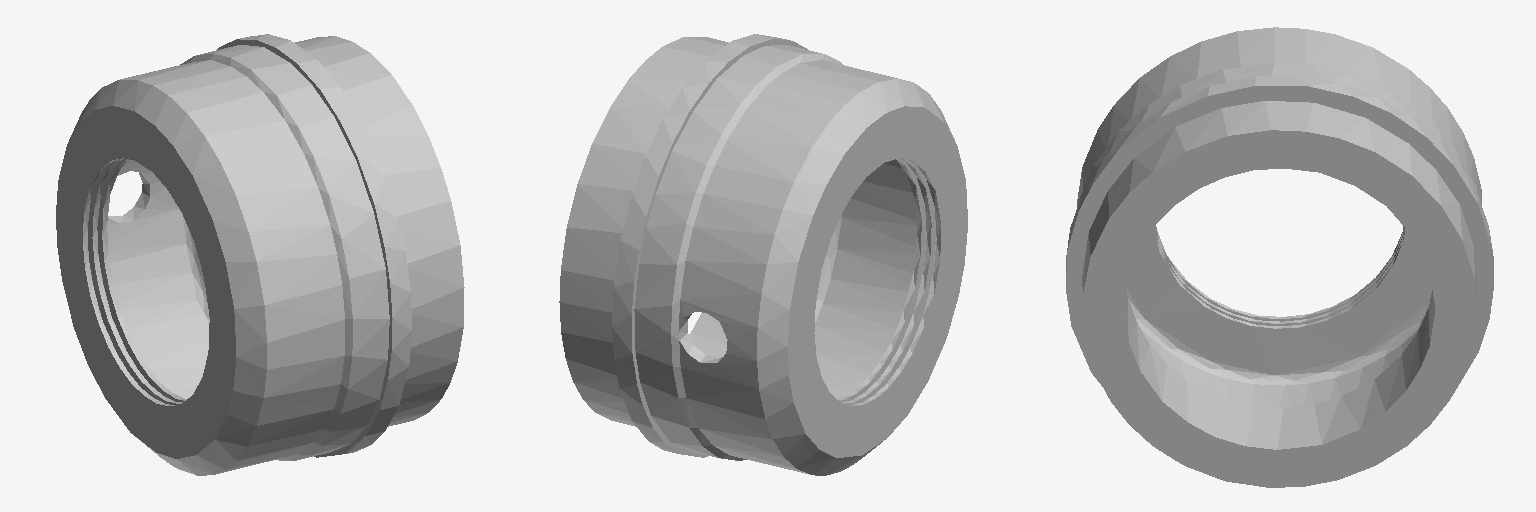
The model's file is push bushing.obj.
The picture shows the model from 3 angles: view 1: azimuth 30°, elevation 25°; view 2: azimuth 150°, elevation 25°; view 3: azimuth 270°, elevation 25°; orthographic projection.
Visible parts, largest first — view 1: imagetostl_mesh0; view 2: imagetostl_mesh0; view 3: imagetostl_mesh0.
Part boxes in pixels (left/top/right/bottom): imagetostl_mesh0: left=56, top=34, right=464, bottom=475; imagetostl_mesh0: left=559, top=34, right=967, bottom=475; imagetostl_mesh0: left=1066, top=27, right=1493, bottom=487.
Size of the model in its own units: 90 by 152 by 152.